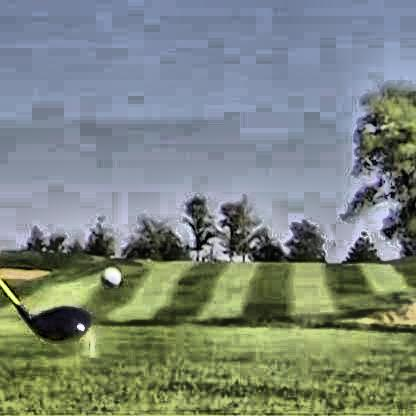golfball: (98, 263, 119, 285)
